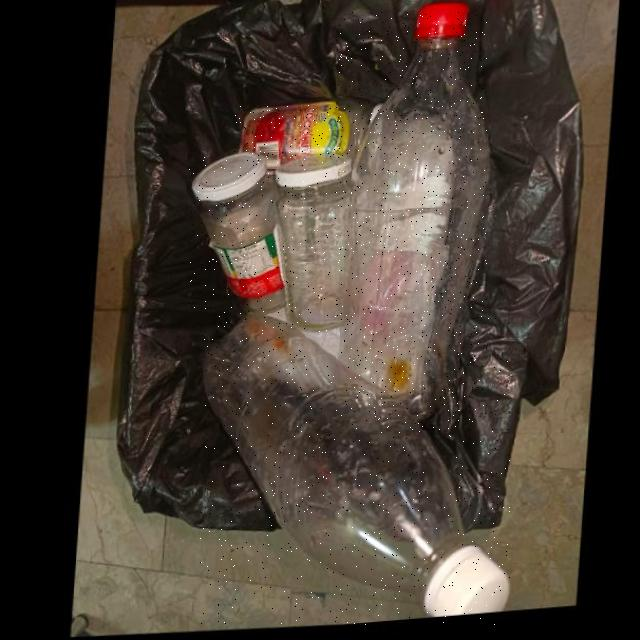glass: (188, 156, 283, 319), (271, 159, 350, 339), (233, 105, 379, 184)
plastic: (200, 317, 511, 625), (336, 12, 487, 430)
